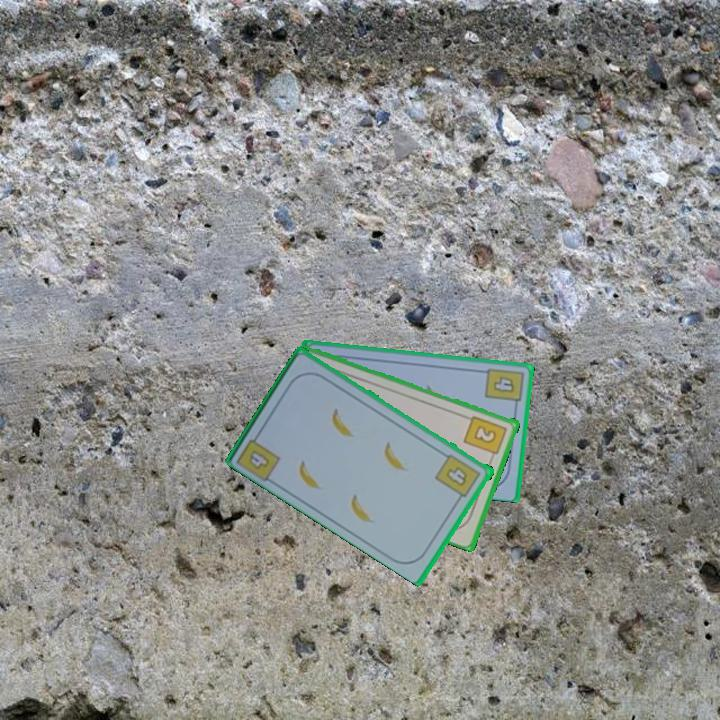2b: (461, 412, 510, 463)
4b: (234, 427, 284, 483), (432, 451, 484, 504), (482, 364, 526, 411)
